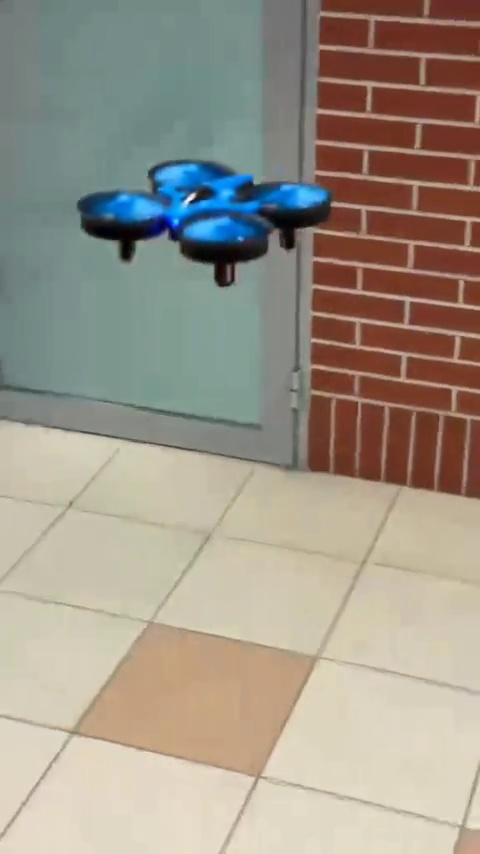drone: (74, 154, 336, 297)
